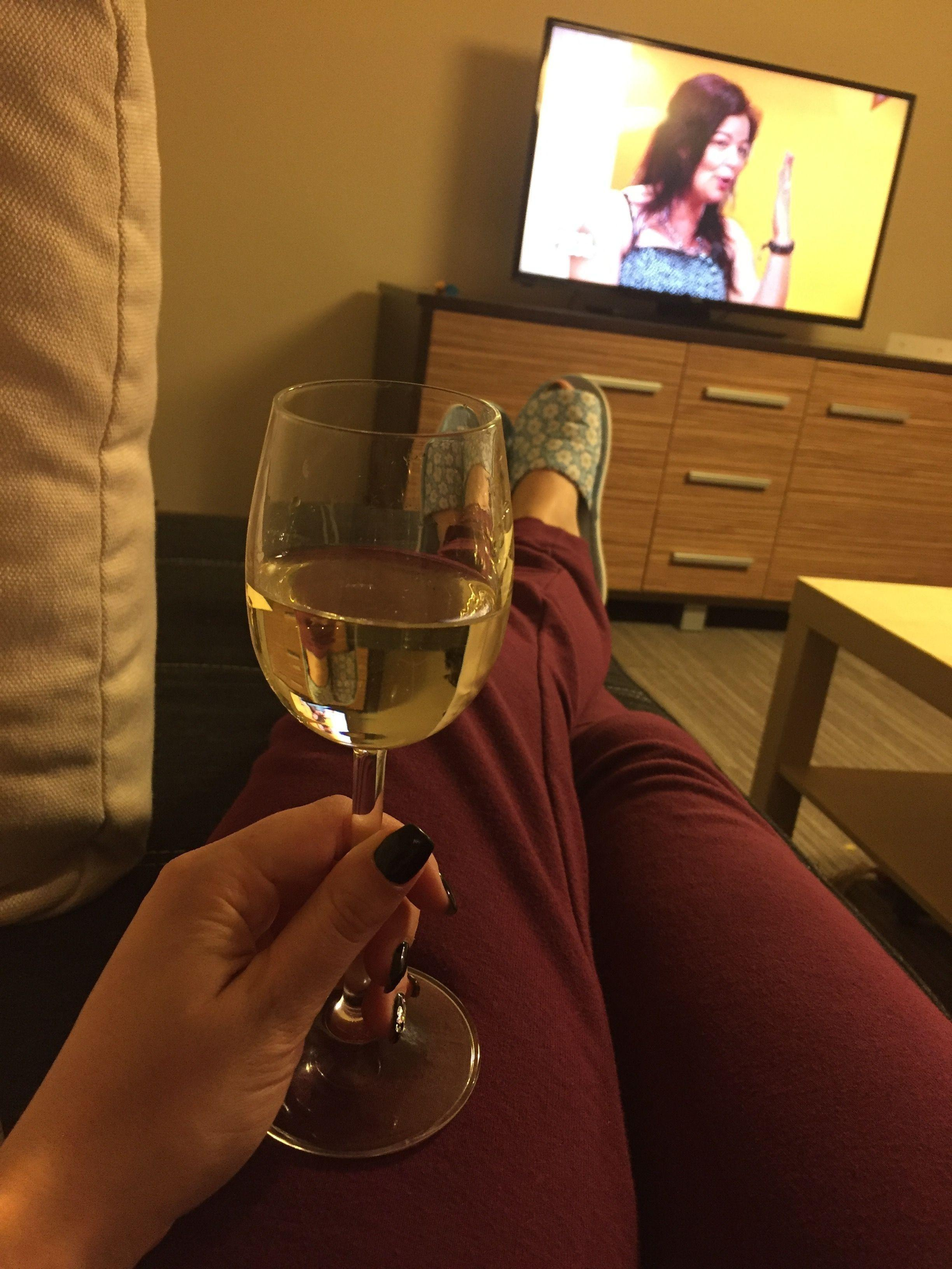glass-wine: (228, 377, 524, 1176)
